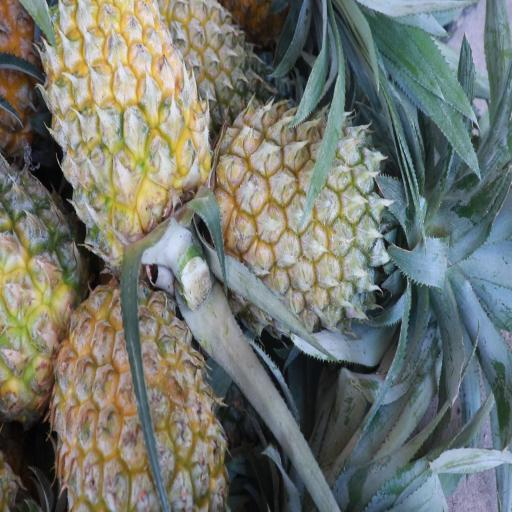------------------------------: (0, 168, 95, 434)
Pineapple - v8 v1: (39, 0, 213, 295), (208, 96, 414, 343), (51, 276, 238, 512)
